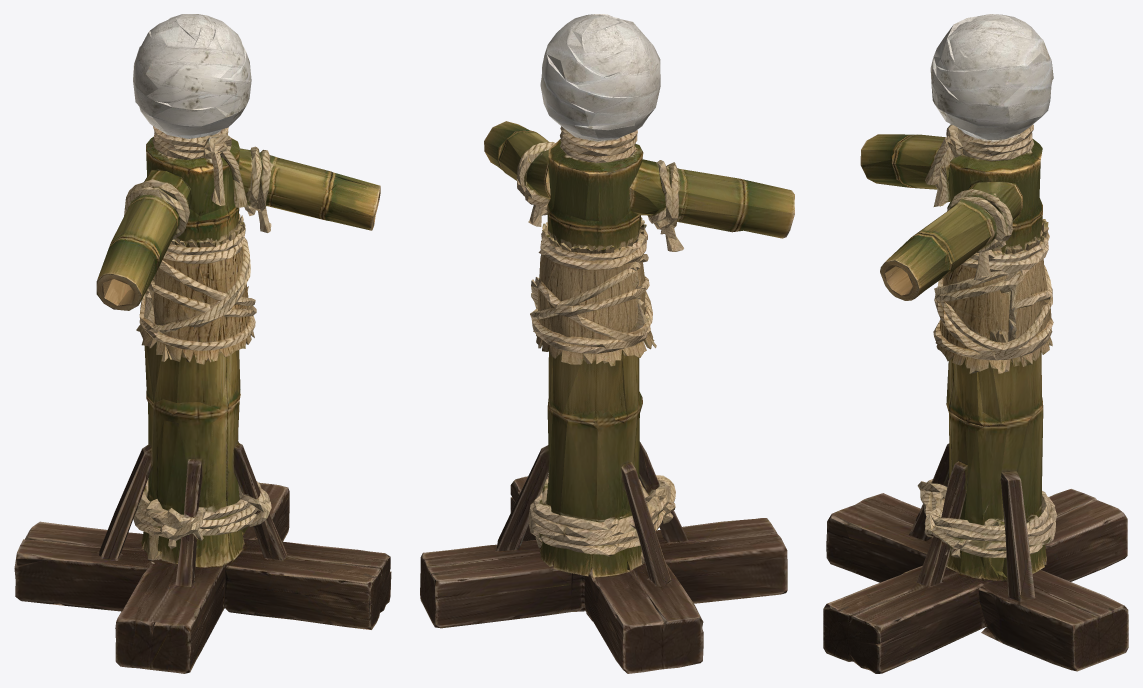
The model's file is Dummy.fbx.
3 renders of one model, left to right at view 1: azimuth 30°, elevation 25°; view 2: azimuth 150°, elevation 25°; view 3: azimuth 270°, elevation 25°, orthographic.
Visible parts, largest first — view 1: Dummy; view 2: Dummy; view 3: Dummy.
Part boxes in pixels (<box>): Dummy: <box>14,14,391,673</box>; Dummy: <box>420,14,794,673</box>; Dummy: <box>823,14,1128,673</box>.
Bounding box in the file's own units: 0.8592 × 1.6 × 0.7552.
Materials: 1 (1 with a texture image).
